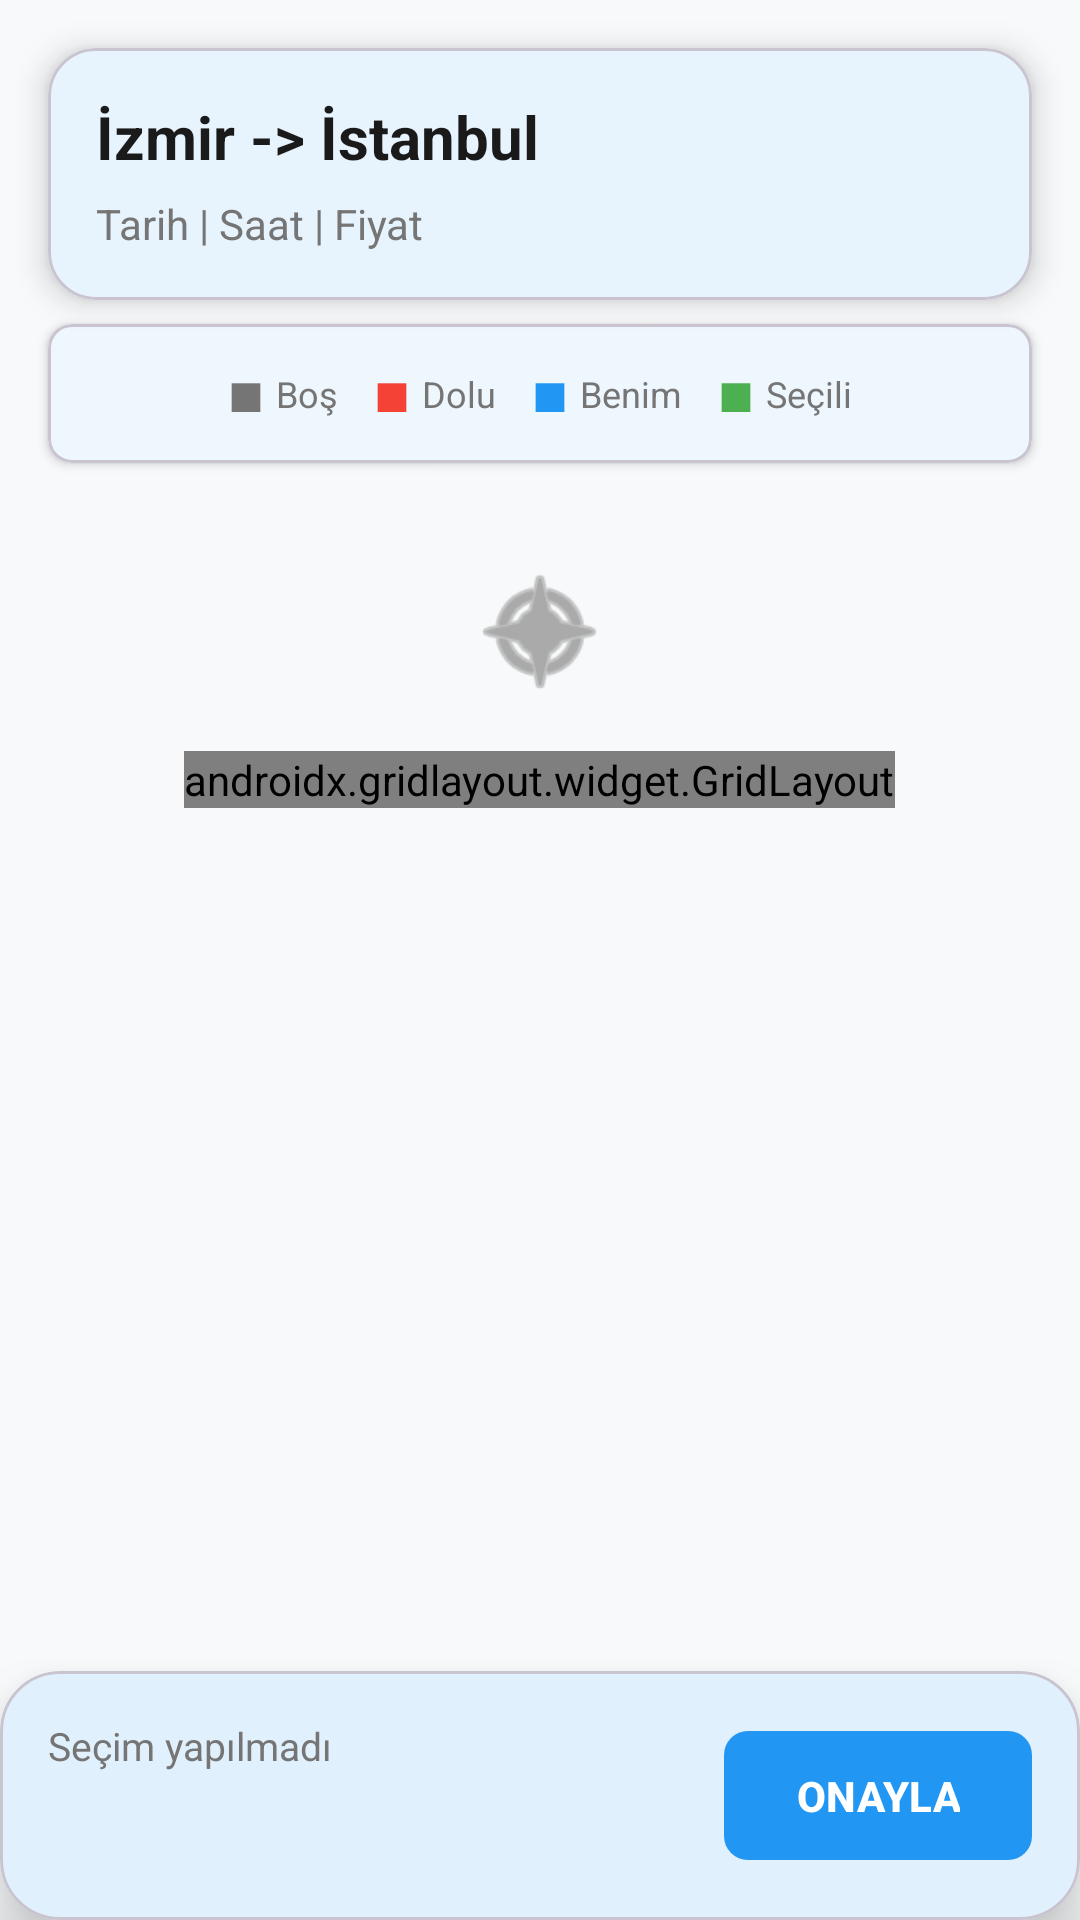

Named icons in this screenshot (1080px×1920px) and their bounding boxes, (x1, y1, x2, y2):
compass: (483, 575, 596, 688)
